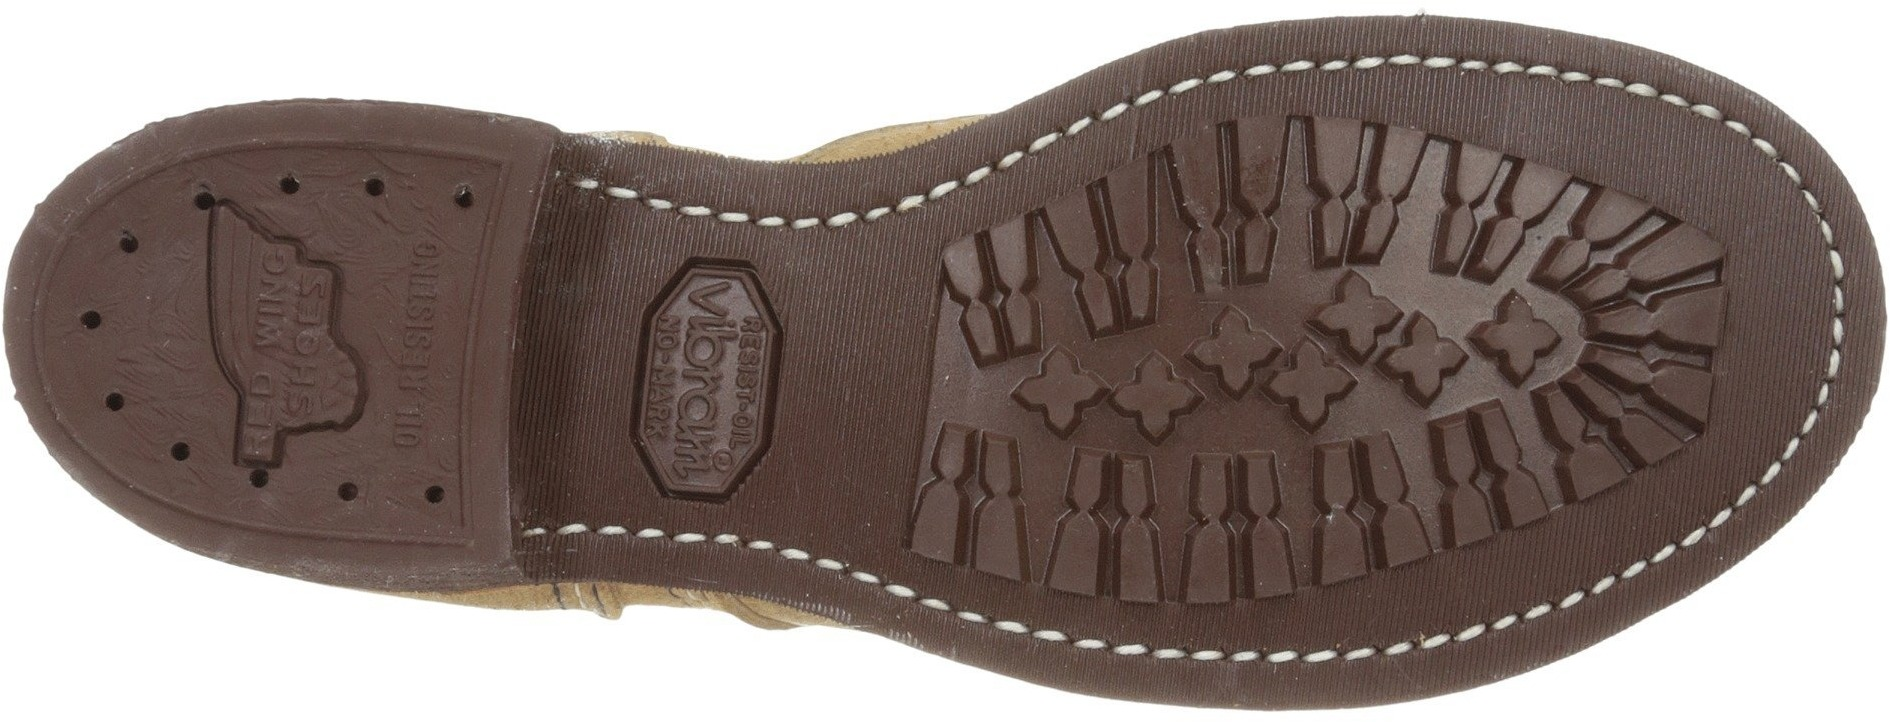bowtie: (1395, 404, 1577, 551), (925, 406, 1053, 577), (1571, 246, 1722, 389), (1170, 447, 1301, 612), (1233, 123, 1383, 259), (1046, 186, 1186, 325), (1372, 409, 1489, 548), (1182, 469, 1311, 588)
circle: (235, 278, 341, 395), (90, 211, 171, 301), (80, 358, 159, 444), (378, 389, 453, 476)
exclude: (494, 27, 972, 647)
line: (1395, 404, 1577, 551), (1170, 447, 1301, 612)
star: (1223, 282, 1363, 436), (1067, 317, 1196, 452), (1411, 266, 1539, 398), (1368, 286, 1485, 413)
text: (599, 234, 814, 471), (235, 278, 341, 395), (387, 248, 464, 337), (378, 389, 453, 476)
